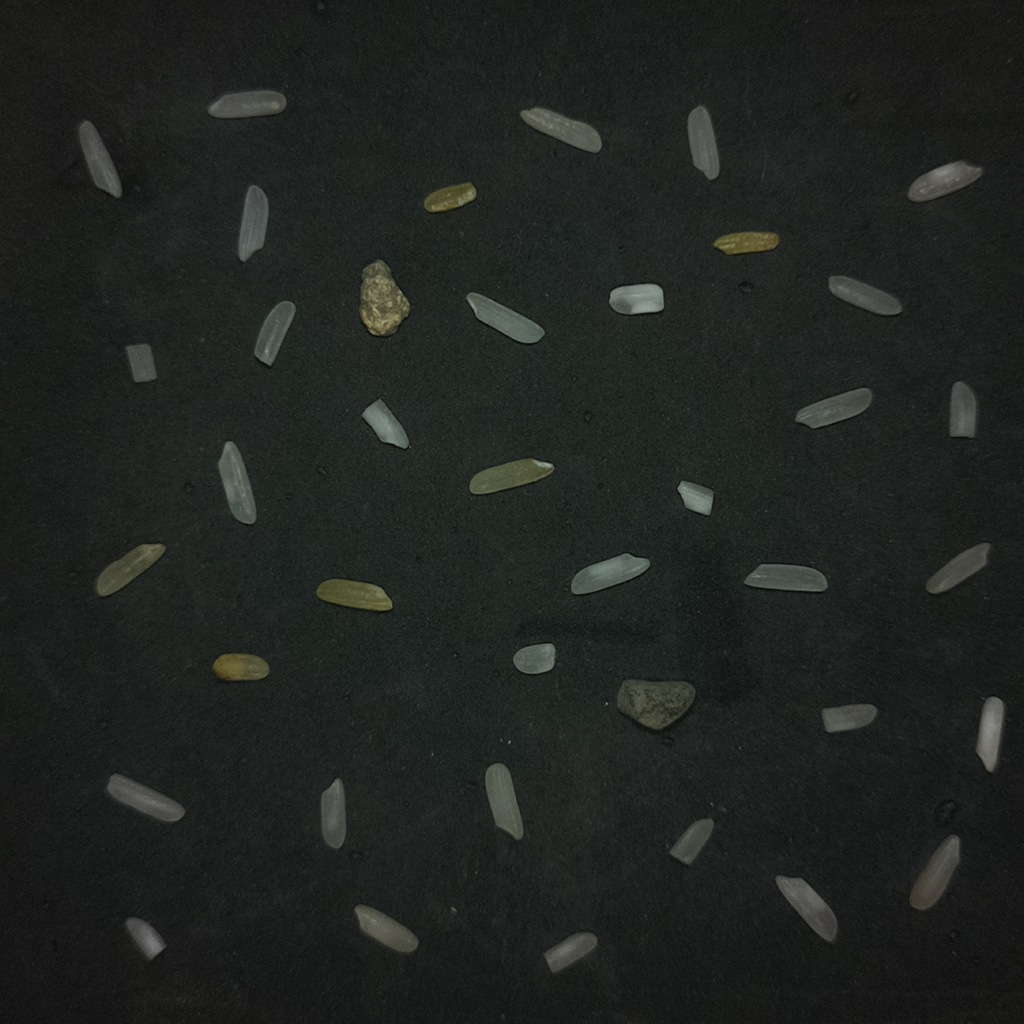broken: (254, 300, 295, 365), (543, 932, 597, 973), (670, 818, 713, 865), (124, 917, 165, 959), (821, 704, 877, 732), (949, 381, 976, 437), (513, 642, 555, 674), (125, 343, 156, 382)
chalky: (361, 399, 409, 449), (976, 697, 1004, 772), (609, 283, 663, 314), (677, 481, 713, 515)
discolored: (95, 543, 165, 596), (469, 458, 553, 494), (316, 579, 392, 611), (423, 182, 476, 212), (213, 653, 268, 681), (713, 231, 779, 254)
foreign: (359, 260, 410, 337), (616, 680, 694, 730)
whole: (775, 875, 837, 942), (466, 292, 544, 343), (106, 773, 184, 822), (909, 835, 959, 910), (520, 107, 601, 152), (925, 542, 992, 594), (78, 121, 122, 197), (571, 552, 649, 594), (218, 441, 256, 524), (907, 160, 982, 202), (354, 905, 418, 953), (796, 389, 872, 428), (485, 763, 523, 840), (828, 275, 901, 315), (744, 563, 826, 592), (238, 185, 268, 261), (688, 106, 719, 179), (207, 90, 286, 118), (320, 778, 346, 849)
